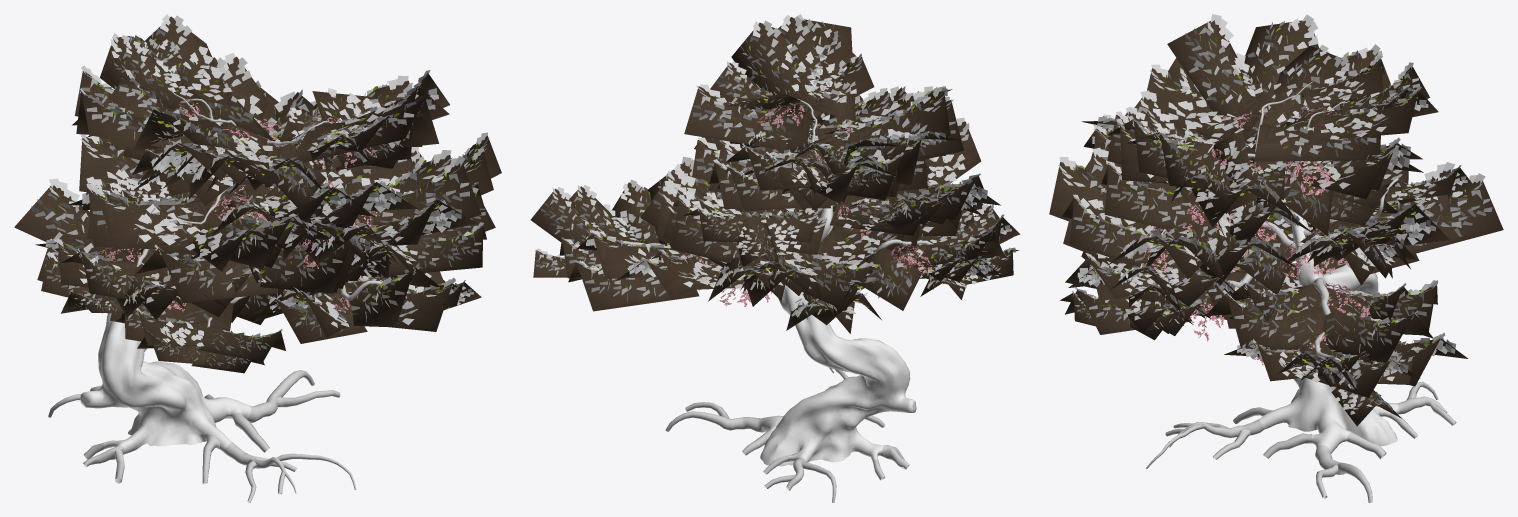
The model's file is blossom_tree_LOD0.fbx.
3 renders of one model, left to right at view 1: azimuth 30°, elevation 25°; view 2: azimuth 150°, elevation 25°; view 3: azimuth 270°, elevation 25°, orthographic. The views are drawn at different scales.
Visible parts, largest first — view 1: Cherry_blossom_LOD0; view 2: Cherry_blossom_LOD0; view 3: Cherry_blossom_LOD0.
Boxes of the visible parts, box(x1,y1,x2,y2) form: Cherry_blossom_LOD0: box(14, 14, 501, 502); Cherry_blossom_LOD0: box(530, 14, 1020, 502); Cherry_blossom_LOD0: box(1049, 14, 1503, 502).
Bounding box in the file's own units: 15.27 × 12.03 × 12.73.
